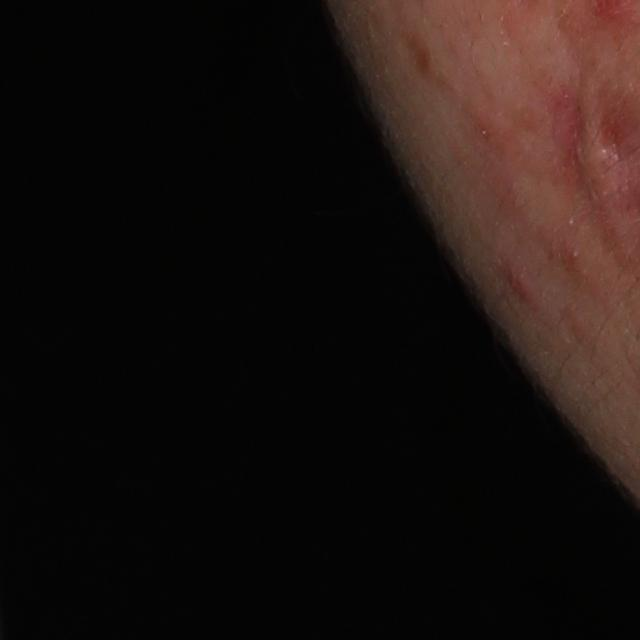papule: (503, 262, 539, 300)
